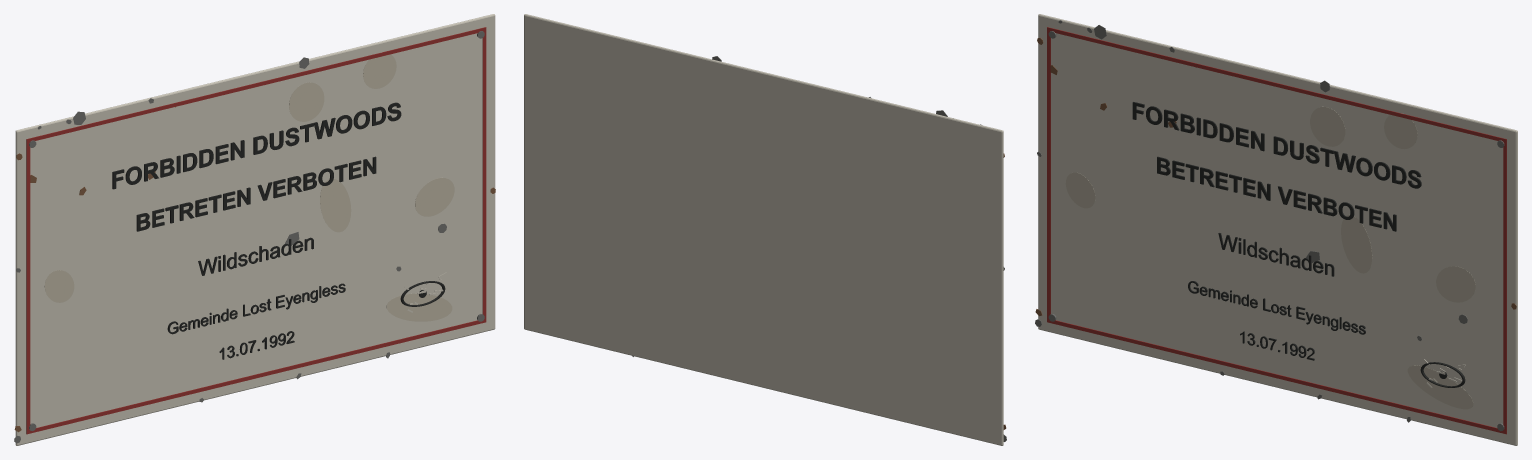
3 renders of one model, left to right at view 1: azimuth 30°, elevation 25°; view 2: azimuth 150°, elevation 25°; view 3: azimuth 330°, elevation 25°, orthographic.
Visible parts, largest first — view 1: Schild_Warn; view 2: Schild_Warn; view 3: Schild_Warn.
Boxes of the visible parts, <box> form: Schild_Warn: <box>14,14,495,445</box>; Schild_Warn: <box>524,14,1006,445</box>; Schild_Warn: <box>1035,14,1517,445</box>.
Bounding box in the file's own units: 0.6231 × 0.3984 × 0.00635.
